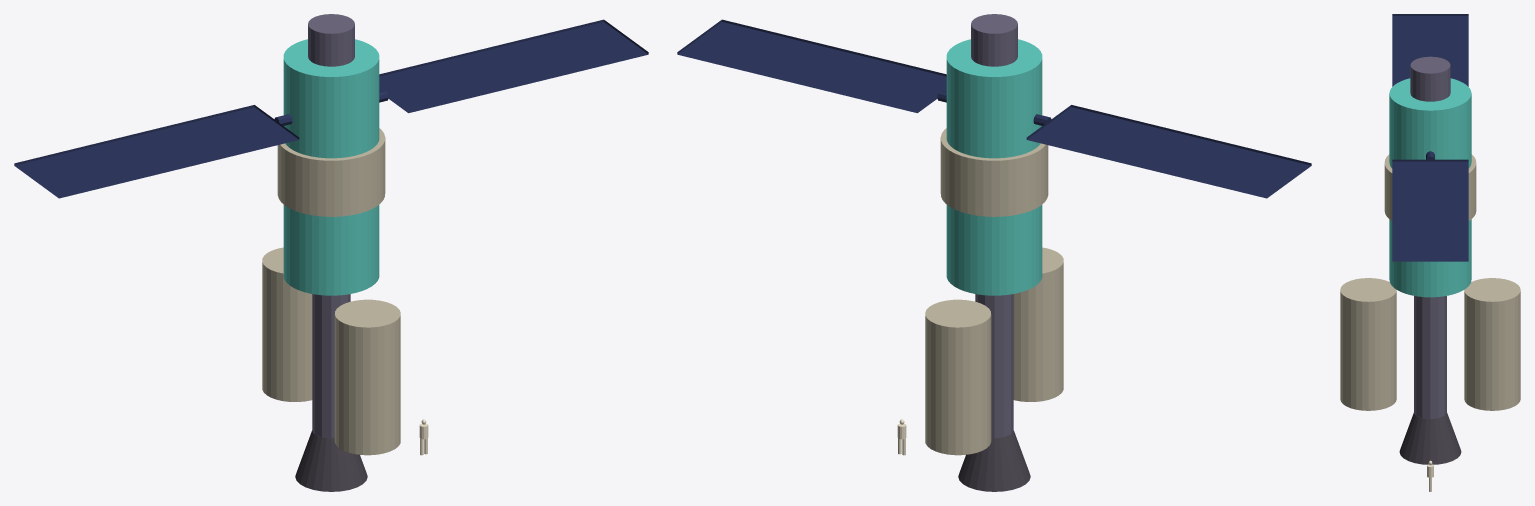
The model's file is hesperus_transit_habitat.obj.
3 views of the same model, side by side, from view 1: azimuth 30°, elevation 25°; view 2: azimuth 150°, elevation 25°; view 3: azimuth 270°, elevation 25° (orthographic). The views are drawn at different scales.
Parts seen in each view (by area): view 1: solar_wings, habitat, propellant, storm_shelter, truss, engine, docking_node; view 2: solar_wings, habitat, propellant, storm_shelter, truss, engine, docking_node; view 3: propellant, solar_wings, habitat, truss, engine, docking_node, storm_shelter.
Boxes of the visible parts, left/top/right/bottom form: solar_wings: left=14, top=19, right=648, bottom=198; habitat: left=283, top=39, right=379, bottom=295; propellant: left=262, top=247, right=400, bottom=455; storm_shelter: left=277, top=128, right=385, bottom=216; truss: left=312, top=294, right=350, bottom=438; engine: left=295, top=430, right=367, bottom=491; docking_node: left=308, top=14, right=354, bottom=66; solar_wings: left=677, top=19, right=1311, bottom=198; habitat: left=946, top=39, right=1042, bottom=295; propellant: left=925, top=247, right=1063, bottom=455; storm_shelter: left=940, top=128, right=1048, bottom=216; truss: left=975, top=294, right=1013, bottom=438; engine: left=958, top=430, right=1030, bottom=491; docking_node: left=971, top=14, right=1017, bottom=66; propellant: left=1340, top=278, right=1520, bottom=410; solar_wings: left=1392, top=14, right=1468, bottom=261; habitat: left=1389, top=78, right=1471, bottom=297; truss: left=1414, top=296, right=1446, bottom=418; engine: left=1399, top=412, right=1461, bottom=464; docking_node: left=1410, top=56, right=1450, bottom=101; storm_shelter: left=1384, top=154, right=1476, bottom=220.
Bounding box in the file's own units: 31.9 × 23.4 × 9.9.
